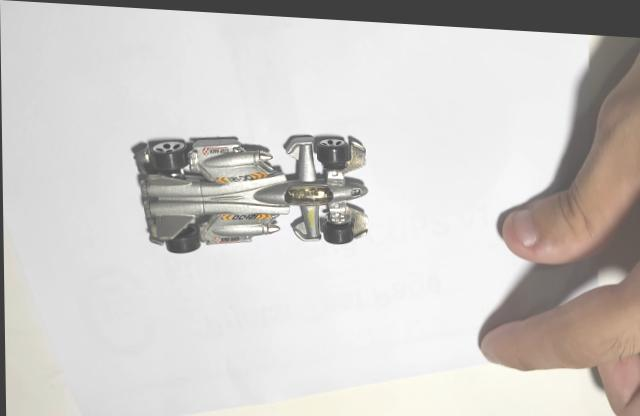05_DC121: (129, 129, 369, 251)
